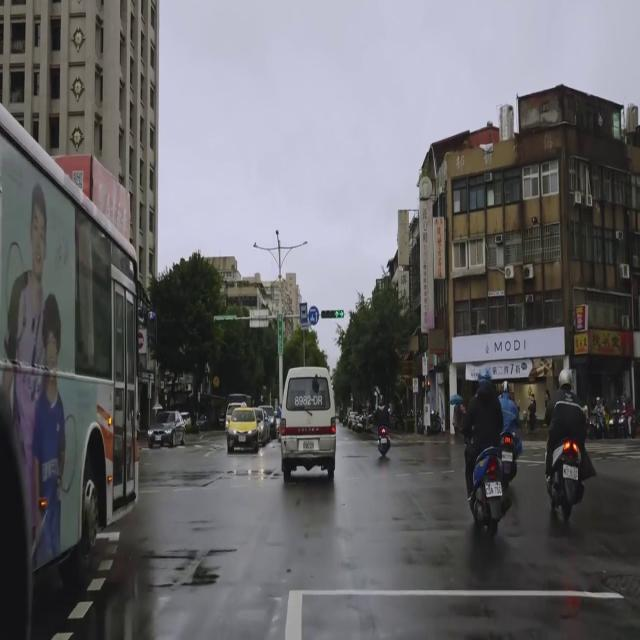green light: (321, 309, 344, 319)
